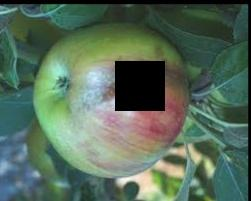rotten apple: (32, 23, 197, 178)
